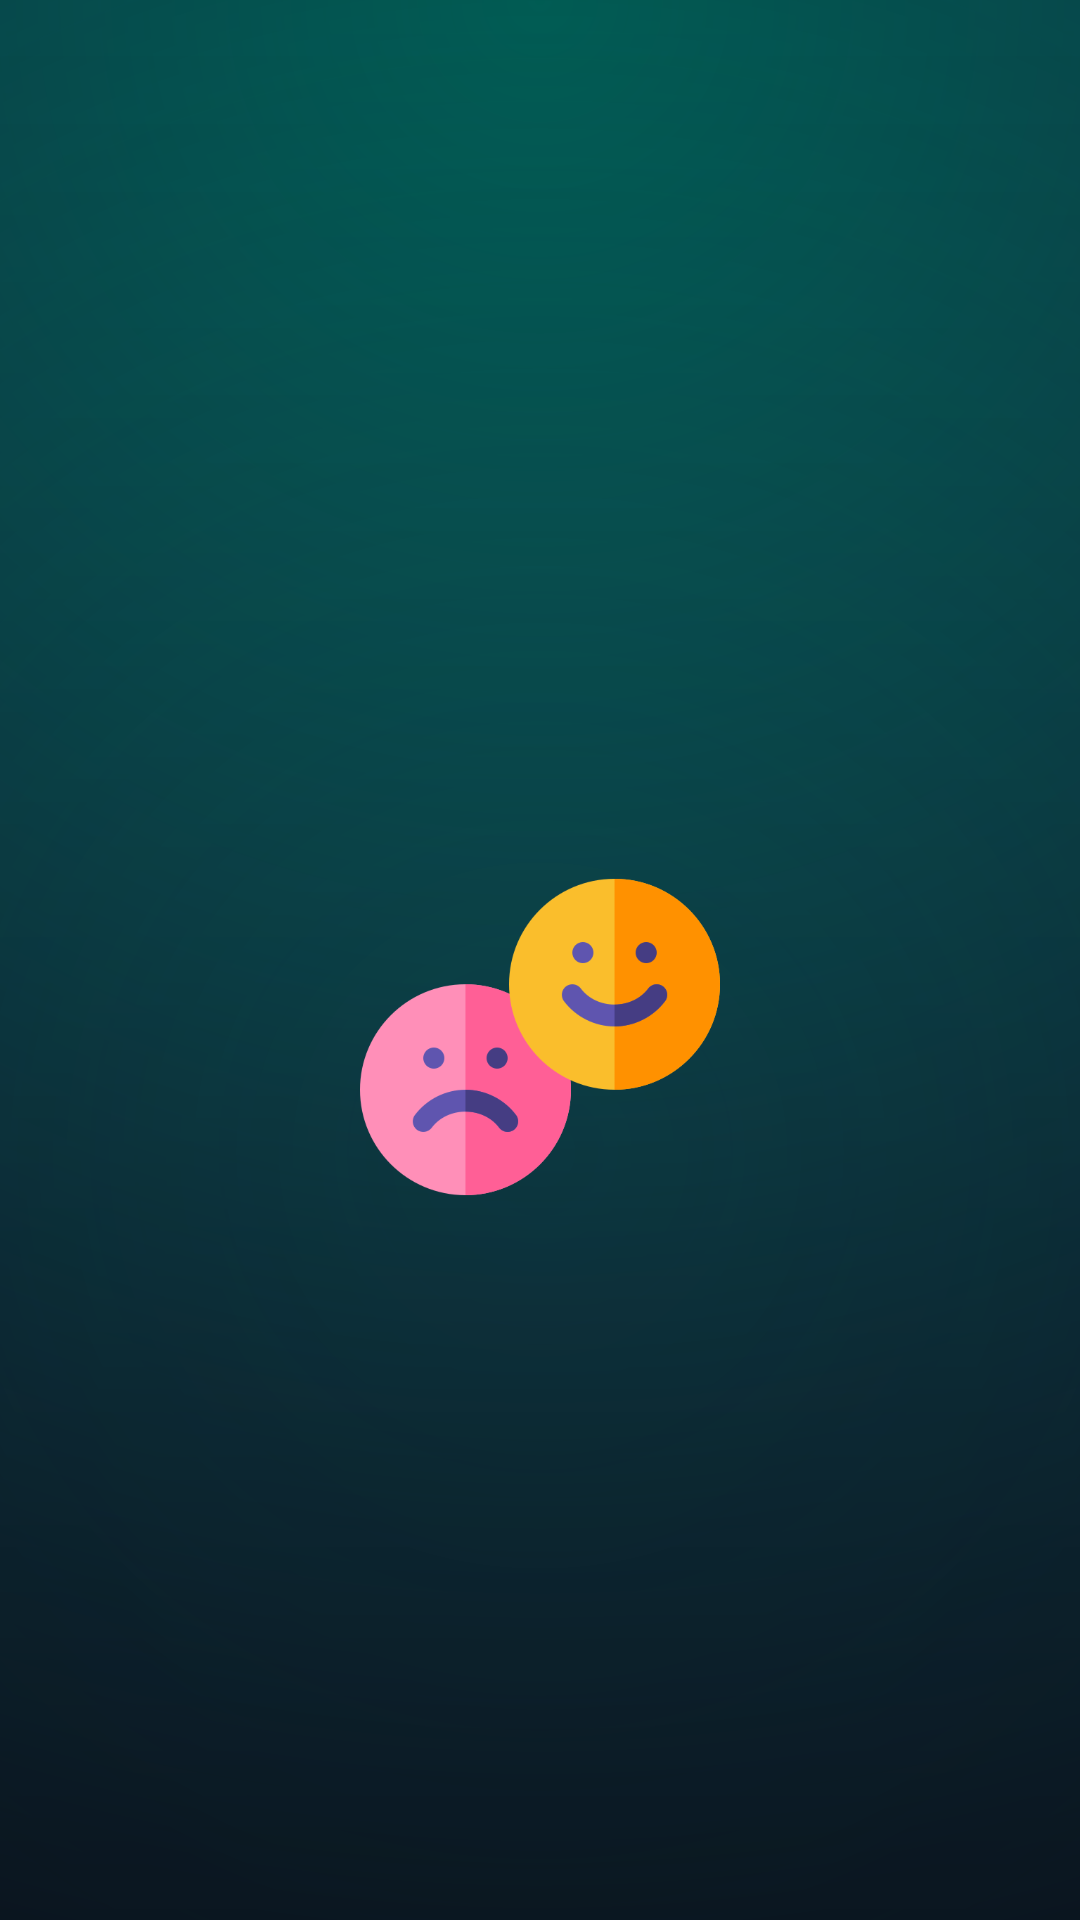

Icon bounding boxes for this 1080*1920 phone screenshot, format (x1, y1, x2, y2):
feeling: (360, 879, 720, 1195)
